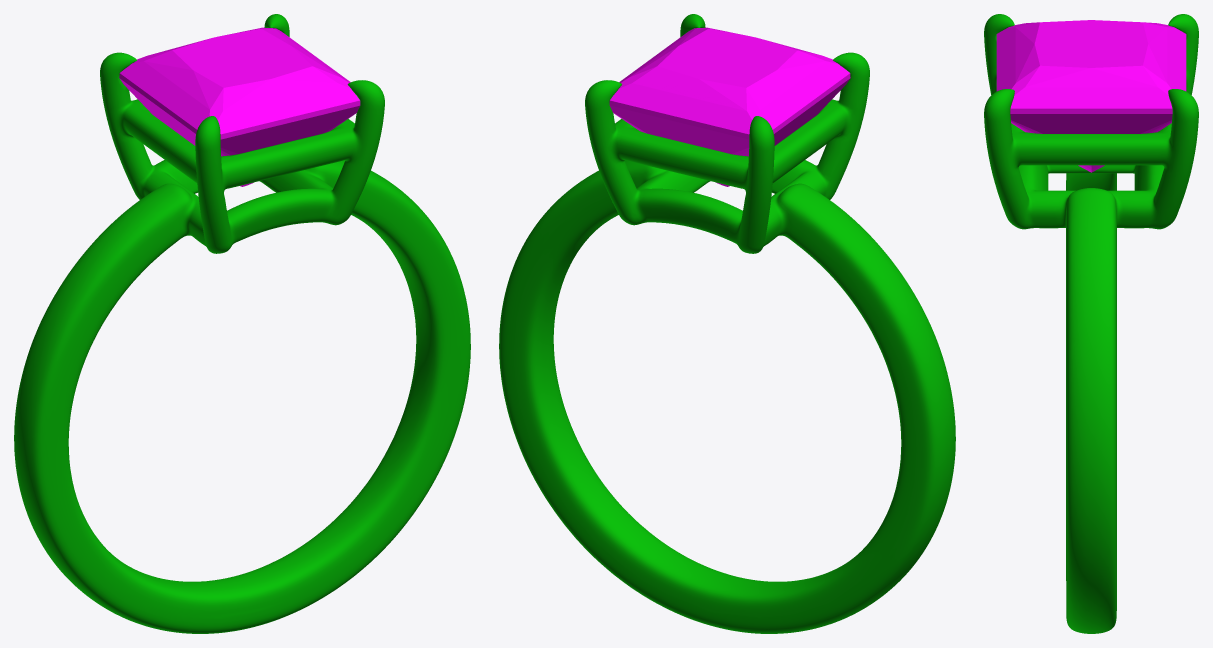
The model's file is BE1542_PR_200ct_RENDER.glb.
3 views of the same model, side by side, from view 1: azimuth 30°, elevation 25°; view 2: azimuth 150°, elevation 25°; view 3: azimuth 270°, elevation 25° (orthographic).
Visible parts, largest first — view 1: Metal 01, CS_Diamond_Princess; view 2: Metal 01, CS_Diamond_Princess; view 3: Metal 01, CS_Diamond_Princess.
Boxes of the visible parts, x1,y1,x2,y2 form: Metal 01: (14, 14, 470, 633); CS_Diamond_Princess: (119, 27, 360, 186); Metal 01: (499, 14, 955, 633); CS_Diamond_Princess: (609, 27, 850, 186); Metal 01: (984, 14, 1198, 633); CS_Diamond_Princess: (996, 20, 1186, 172).
Bounding box in the file's own units: 20.31 × 24.73 × 8.51.
